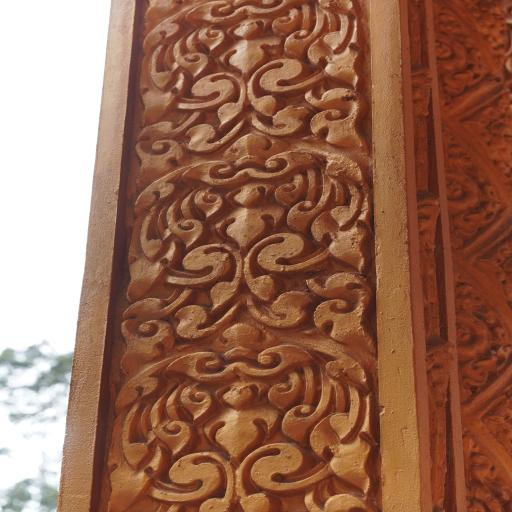la: (126, 132, 390, 356), (123, 324, 386, 512), (137, 0, 372, 164)
